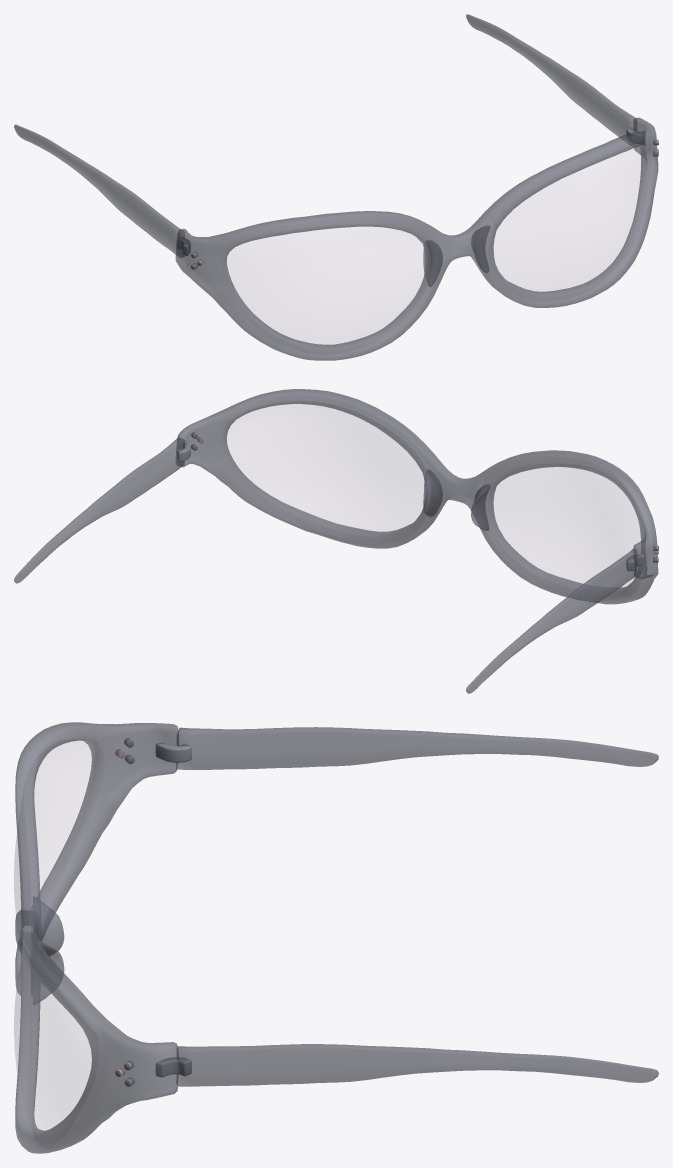
File: stone.glb
3 views of the same model, one above another, from view 1: azimuth 30°, elevation 25°; view 2: azimuth 150°, elevation 25°; view 3: azimuth 270°, elevation 25° (orthographic). The views are drawn at different scales.
Parts seen in each view (by area): view 1: model_3.002; view 2: model_3.002; view 3: model_3.002.
Boxes of the visible parts, <box> form: model_3.002: <box>14,14,658,360</box>; model_3.002: <box>14,389,658,693</box>; model_3.002: <box>14,722,658,1153</box>.
Size of the model in its own units: 2.21 by 0.6493 by 1.82.
